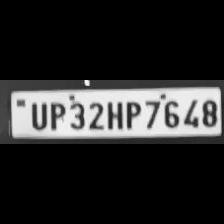2: (86, 99, 104, 129)
3: (66, 99, 84, 129)
4: (181, 96, 199, 128)
6: (160, 97, 180, 129)
7: (141, 97, 159, 129)
8: (198, 96, 218, 128)
H: (104, 99, 122, 129)
P: (122, 98, 140, 130), (47, 100, 65, 130)
U: (27, 99, 47, 129)
